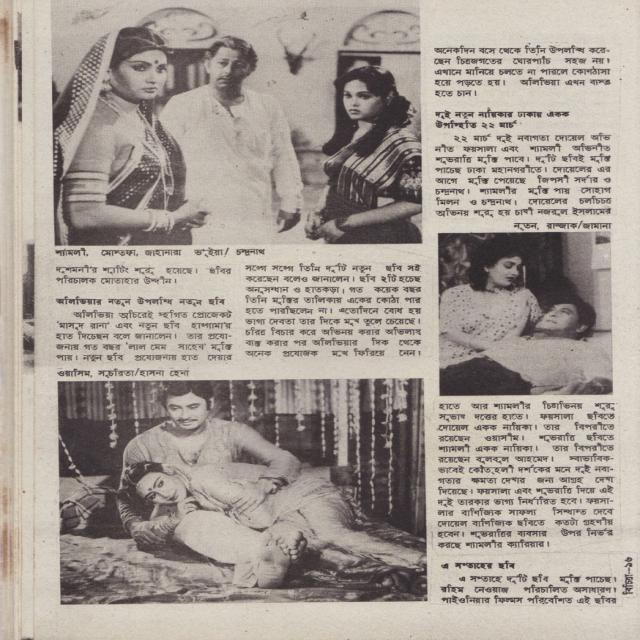caption: (54, 246, 267, 258), (57, 368, 190, 378), (513, 220, 612, 231)
image: (51, 0, 424, 245), (59, 380, 424, 602), (439, 231, 612, 395)
page number: (624, 556, 634, 570)
paragraph: (431, 400, 619, 551), (242, 262, 424, 359), (432, 132, 612, 218), (433, 44, 612, 98), (56, 309, 235, 363), (441, 574, 624, 606), (54, 264, 234, 286)
text: (622, 573, 635, 596)
title: (434, 109, 570, 129), (53, 295, 228, 307), (441, 560, 516, 570)
